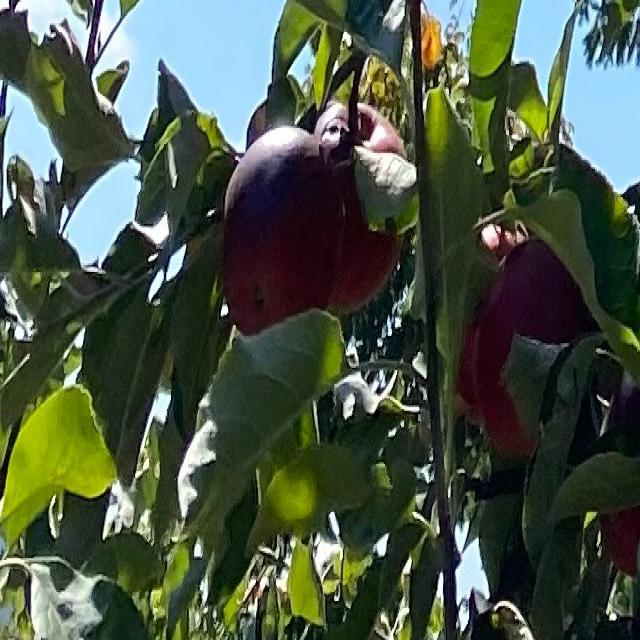Apples: (477, 235, 616, 450), (223, 128, 342, 334), (315, 105, 409, 309), (454, 222, 524, 400), (600, 378, 639, 570)
